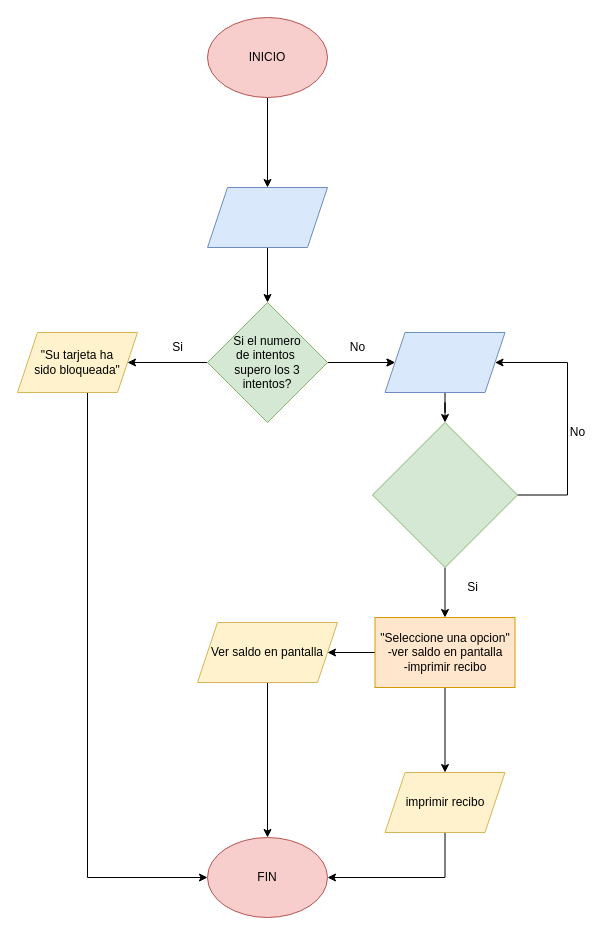
Some shapes in this 615 by 935 pixel diagram are drawn without their labels. Each missing label, with the centre of its shape:
"Ingrese su clave" goes at (267,217).
"Ingrese su tipo de cuenta y su valor a retirar" goes at (444,362).
"Su tipo de cuenta es correcta y su valor a retirar esta disponible?" goes at (445,495).
